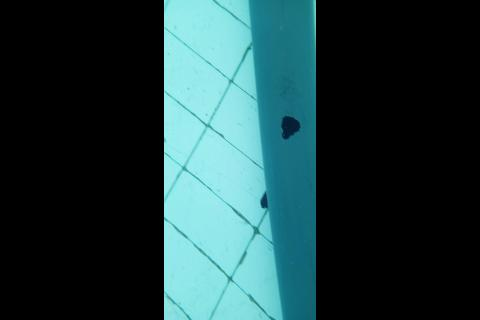kebocoran: (278, 114, 301, 141)
